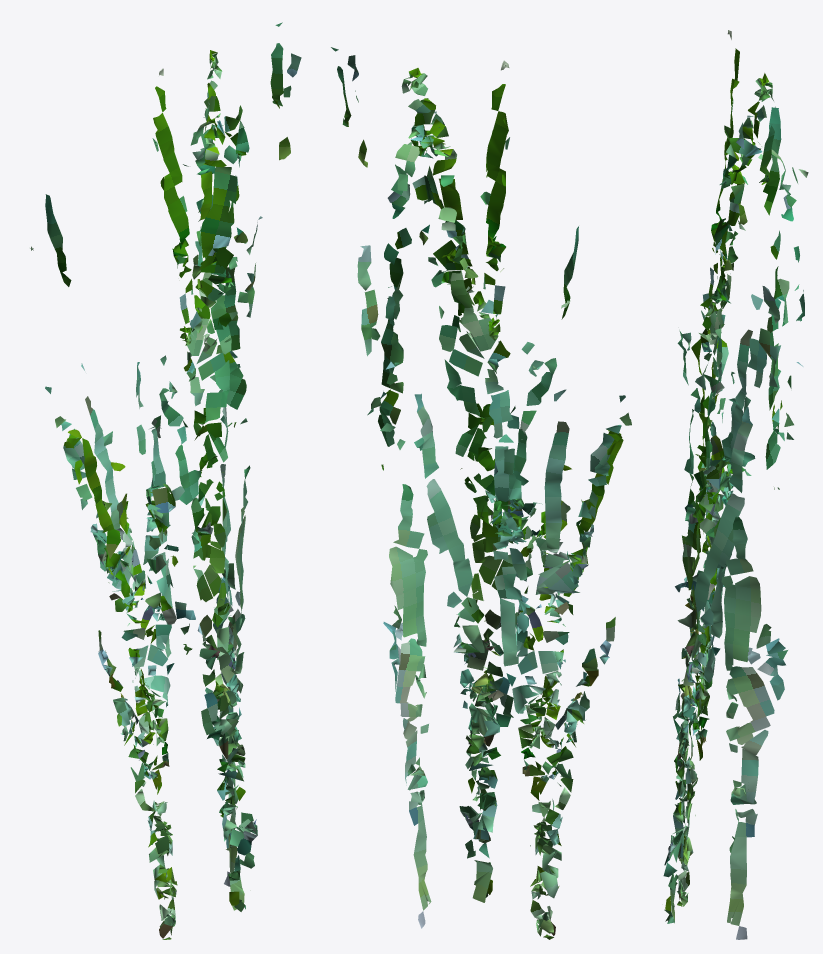
File: crocus.obj
3 renders of one model, left to right at view 1: azimuth 30°, elevation 25°; view 2: azimuth 150°, elevation 25°; view 3: azimuth 270°, elevation 25°, orthographic. The views are drawn at different scales.
Bounding box in the file's own units: 1.07 × 3.28 × 0.4839.
1 material, 1 textured.
